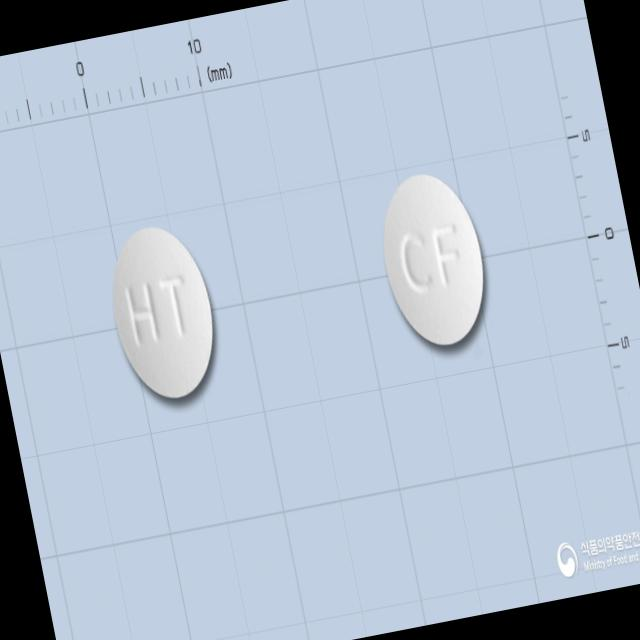Craproxin: (368, 164, 498, 354), (98, 216, 226, 408)
